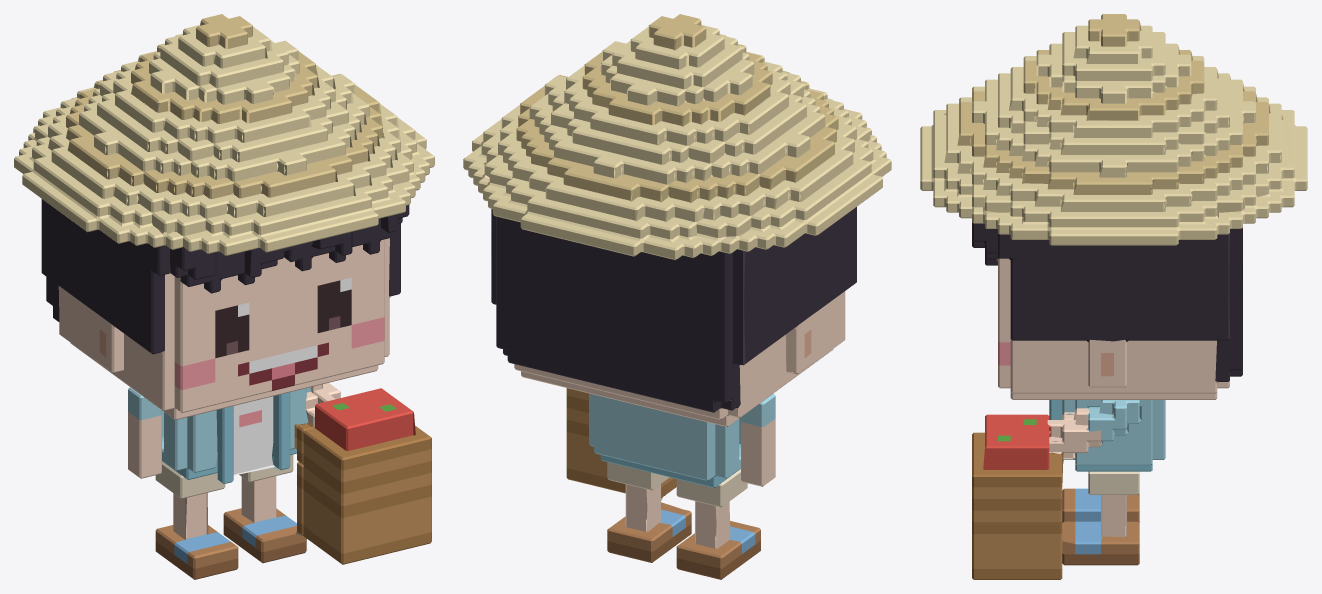
The model's file is khoi-ha.glb.
3 renders of one model, left to right at view 1: azimuth 30°, elevation 25°; view 2: azimuth 150°, elevation 25°; view 3: azimuth 270°, elevation 25°, orthographic. The views are drawn at different scales.
Visible parts, largest first — view 1: head, armR, body, legL, legR, armL; view 2: head, body, legL, legR, armR, armL; view 3: head, armR, legR, body, legL.
Part boxes in pixels (x1,y1,x2,y2): head: (14, 14, 434, 419); armR: (303, 383, 431, 564); body: (162, 387, 317, 483); legL: (155, 461, 238, 579); legR: (223, 454, 306, 563); armL: (128, 387, 161, 478); head: (463, 14, 891, 426); body: (589, 393, 740, 487); legL: (676, 469, 760, 579); legR: (607, 462, 691, 562); armR: (566, 388, 676, 495); armL: (741, 393, 775, 486); head: (920, 14, 1307, 399); armR: (972, 400, 1139, 579); legR: (1062, 471, 1139, 565); body: (1049, 400, 1165, 471); legL: (1062, 488, 1139, 522).
Size of the model in its own units: 1.5 by 2.2 by 1.5.
